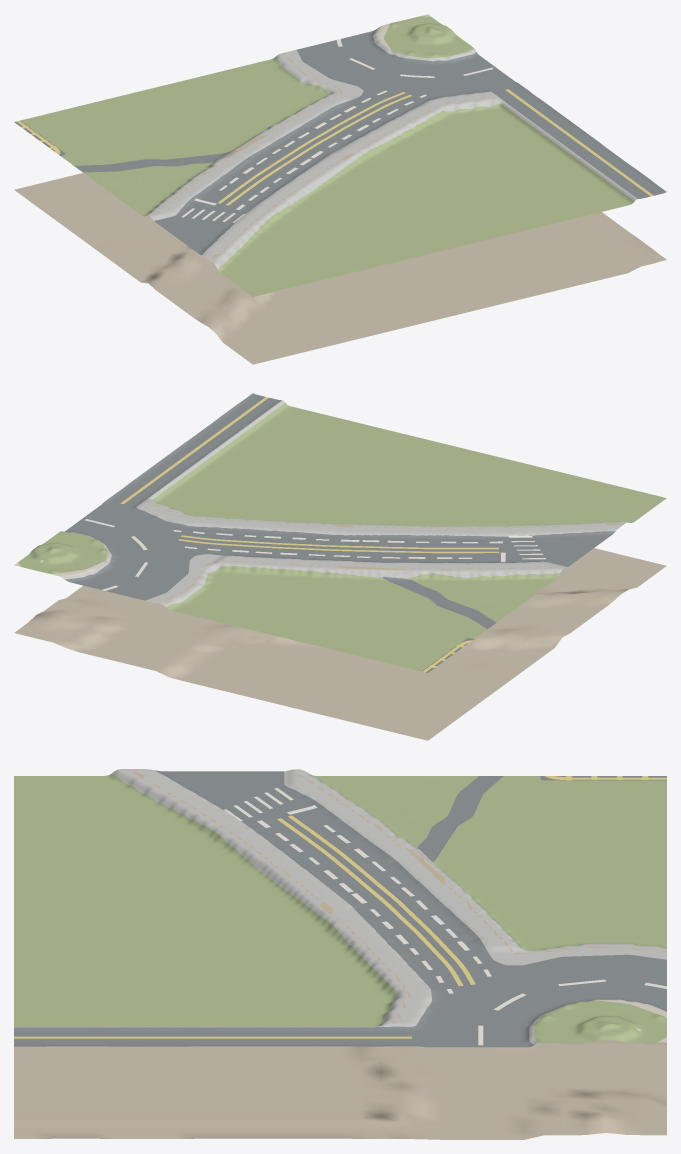
The picture shows the model from 3 angles, top to bottom: view 1: azimuth 30°, elevation 25°; view 2: azimuth 150°, elevation 25°; view 3: azimuth 270°, elevation 25°; orthographic projection. The views are drawn at different scales.
Visible parts, largest first — view 1: s_-8_-3__grass, s_-8_-3__soil, s_-8_-3__asphalt, s_-8_-3__stone_paving, s_-8_-3__yellow_marking, s_-8_-3__white_marking, s_-8_-3__timber_deck; view 2: s_-8_-3__grass, s_-8_-3__soil, s_-8_-3__asphalt, s_-8_-3__stone_paving, s_-8_-3__yellow_marking, s_-8_-3__white_marking, s_-8_-3__timber_deck; view 3: s_-8_-3__grass, s_-8_-3__soil, s_-8_-3__asphalt, s_-8_-3__stone_paving, s_-8_-3__yellow_marking, s_-8_-3__white_marking, s_-8_-3__timber_deck.
Part boxes in pixels (x1,y1,x2,y2): s_-8_-3__grass: [21, 16, 634, 296]; s_-8_-3__soil: [14, 173, 666, 364]; s_-8_-3__asphalt: [14, 29, 666, 254]; s_-8_-3__stone_paving: [146, 26, 637, 269]; s_-8_-3__yellow_marking: [16, 89, 653, 205]; s_-8_-3__white_marking: [181, 39, 493, 222]; s_-8_-3__timber_deck: [155, 52, 494, 261]; s_-8_-3__grass: [18, 402, 666, 671]; s_-8_-3__soil: [14, 548, 666, 740]; s_-8_-3__asphalt: [64, 393, 615, 672]; s_-8_-3__stone_paving: [61, 400, 627, 606]; s_-8_-3__yellow_marking: [120, 397, 498, 672]; s_-8_-3__white_marking: [85, 519, 545, 590]; s_-8_-3__timber_deck: [146, 501, 623, 603]; s_-8_-3__grass: [14, 774, 666, 1042]; s_-8_-3__soil: [14, 1006, 666, 1139]; s_-8_-3__asphalt: [14, 770, 666, 1047]; s_-8_-3__stone_paving: [14, 769, 666, 1044]; s_-8_-3__yellow_marking: [14, 776, 666, 1038]; s_-8_-3__white_marking: [224, 788, 666, 1045]; s_-8_-3__timber_deck: [127, 770, 666, 1023].
Size of the model in its own units: 128 by 23.55 by 128.
